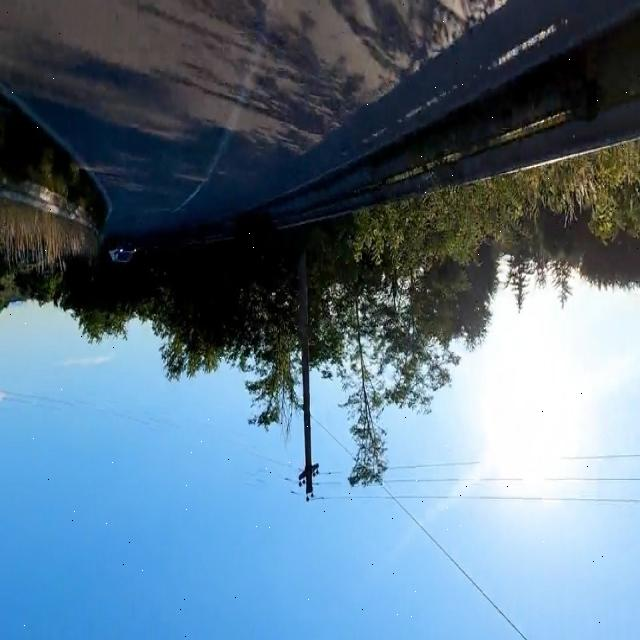lane: (1, 2, 640, 236), (173, 14, 265, 213)
road: (1, 2, 640, 236)
